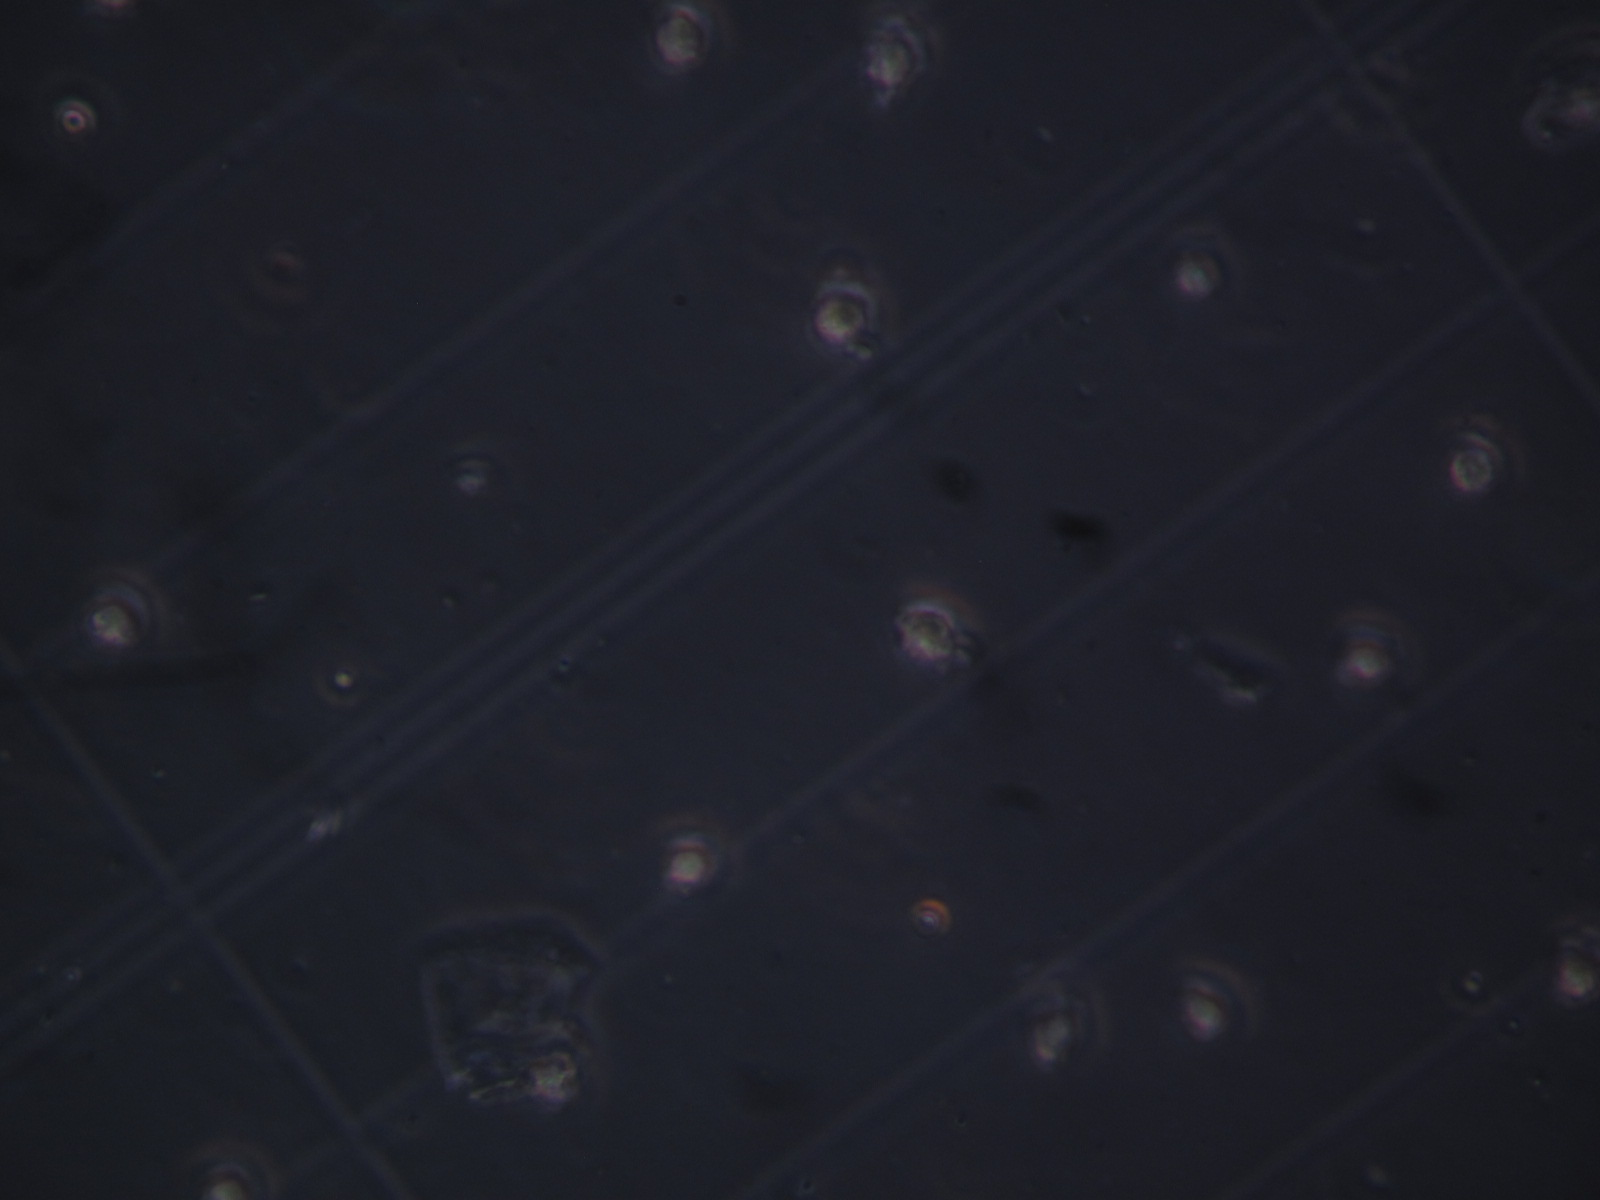hemo: (83, 565, 170, 650), (1175, 958, 1259, 1045), (1164, 221, 1245, 303), (1332, 618, 1414, 695), (645, 3, 729, 76), (863, 15, 929, 100), (894, 581, 963, 662), (191, 1143, 286, 1200), (808, 279, 882, 347), (1026, 995, 1094, 1063), (654, 828, 724, 892), (1448, 431, 1503, 492)
